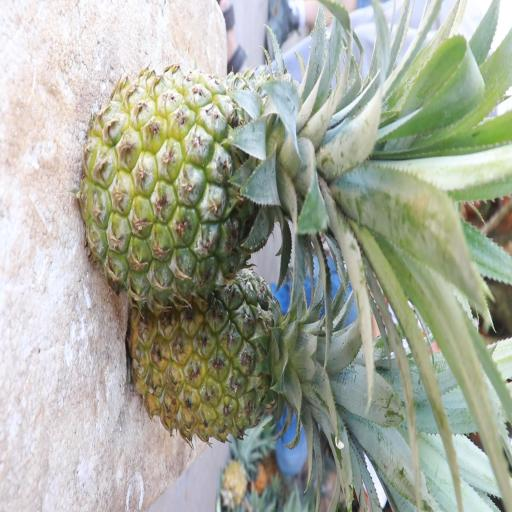------------------------------: (86, 62, 328, 299)
Pineapple - v8 v1: (134, 261, 314, 437)
